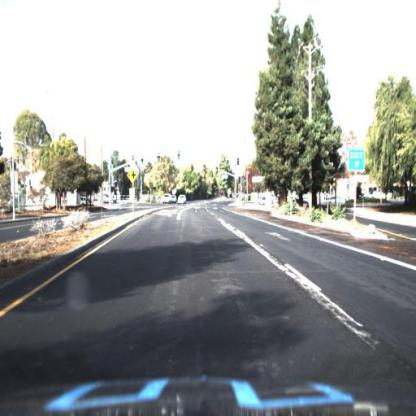car: (97, 191, 121, 206), (161, 191, 173, 207), (255, 197, 271, 209), (180, 191, 189, 209), (172, 195, 179, 208)
